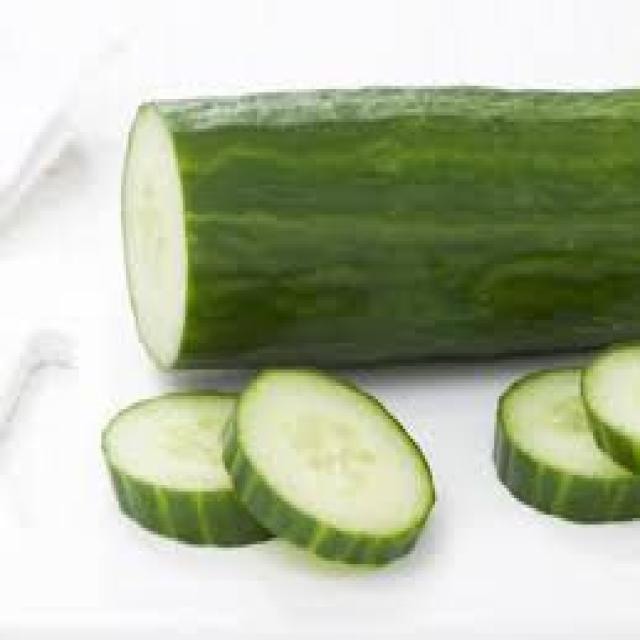cucumber: (121, 86, 640, 372)
